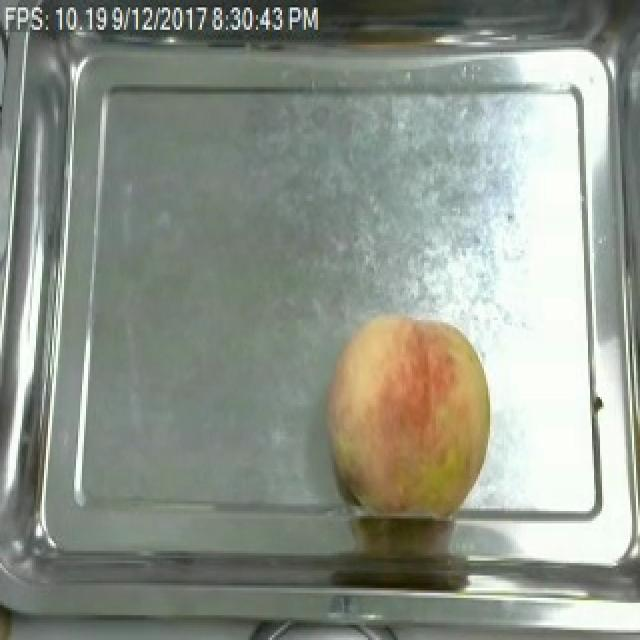Fruit: (314, 305, 500, 524)
